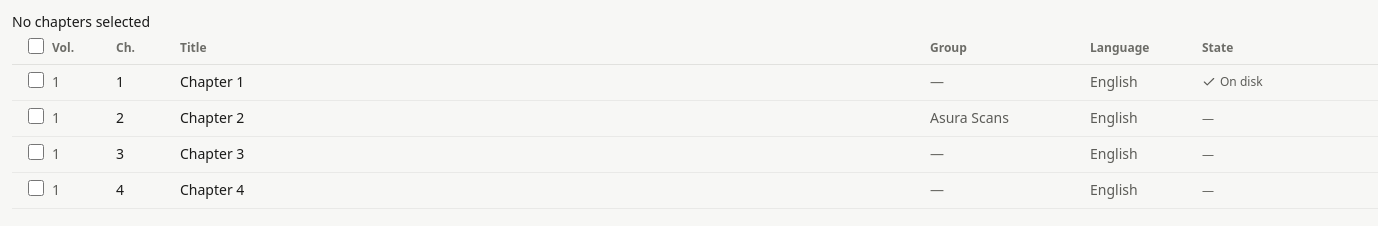
Test: ChaptersTable selection › click selects, shift-click extends, header checkbox toggles all
expect the text with test id "summary" reads "No chapters selected": met, box [12,12,150,31]
Step 1. Click the text "Chapter 1" → (212, 82), box [180,64,930,100]
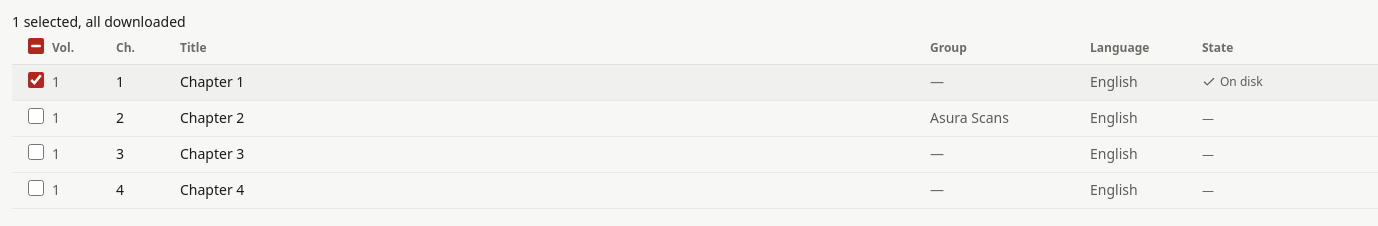
expect the text with test id "summary" reads "1 selected, all downloaded": met, box [12,12,186,31]
Step 2. Type keys "{Shift>}"
Step 3. Click the text "Chapter 3" → (212, 154), box [180,136,930,172]
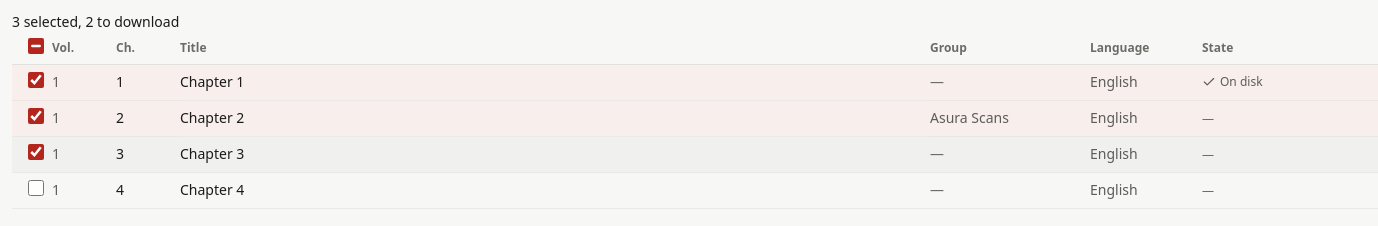
Step 4. Type keys "{/Shift}"
expect the text with test id "summary" reads "3 selected, 2 to download": met, box [12,12,179,31]
Step 5. Click the checkbox named "Select all chapters" → (36, 46), box [28,38,44,54]
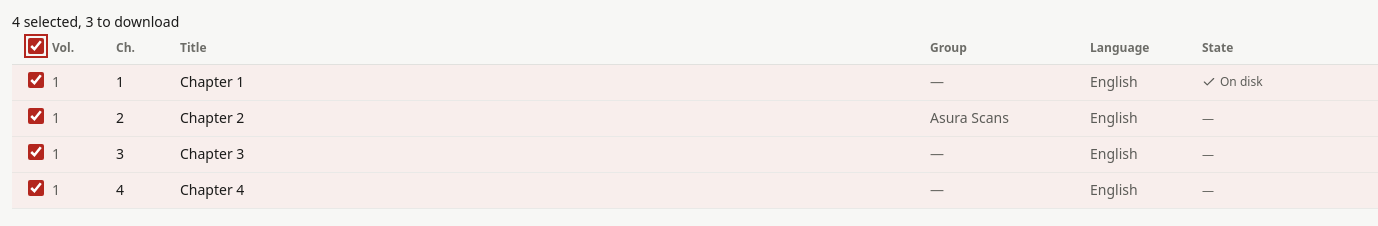
expect the text with test id "summary" reads "4 selected, 3 to download": met, box [12,12,179,31]
Step 6. Click the checkbox named "Select all chapters" → (36, 46), box [28,38,44,54]
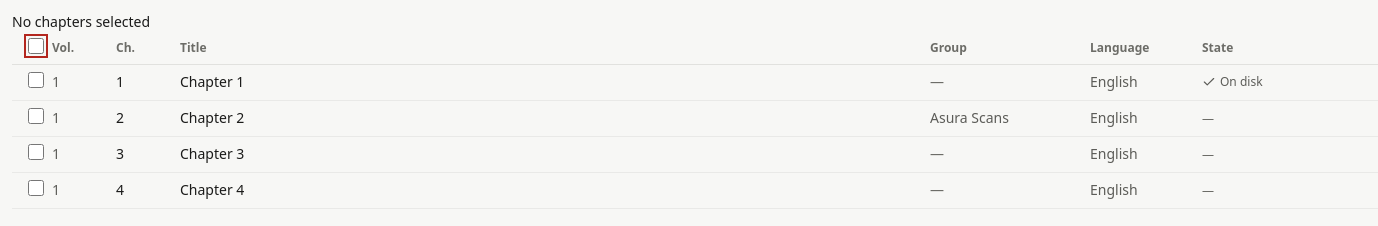
expect the text with test id "summary" reads "No chapters selected": met, box [12,12,150,31]
